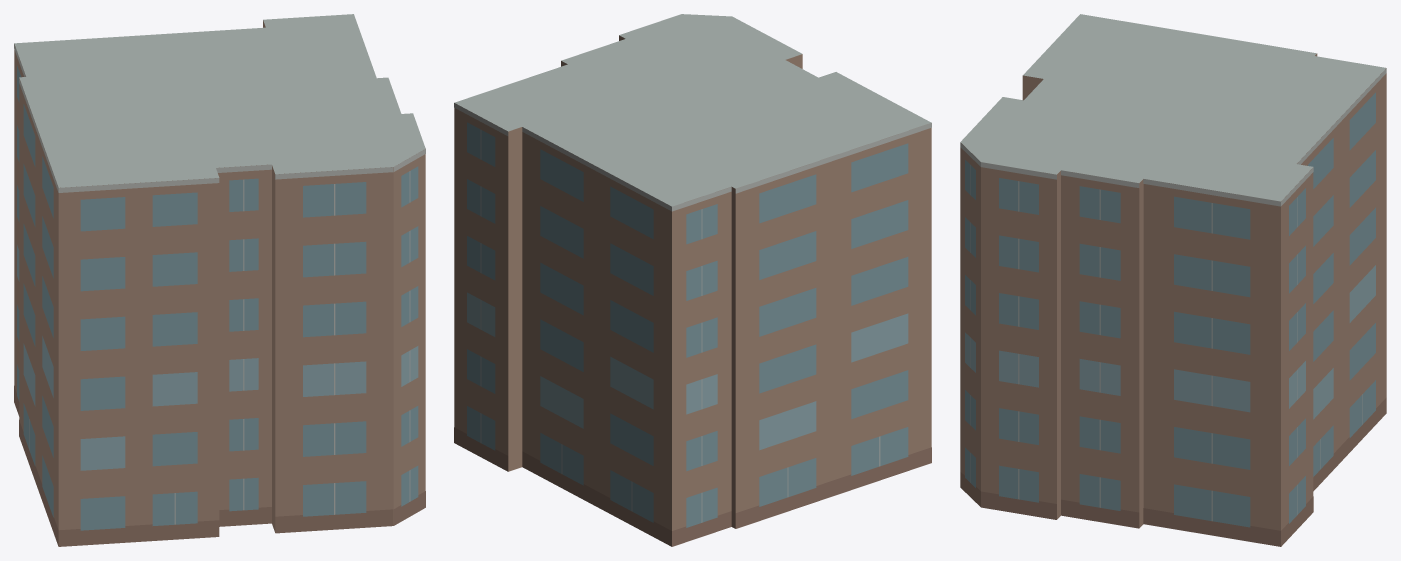
Rendered from survey-upis-32656479.glb.
The picture shows the model from 3 angles, left to right: view 1: azimuth 30°, elevation 25°; view 2: azimuth 150°, elevation 25°; view 3: azimuth 270°, elevation 25°; orthographic projection. The views are drawn at different scales.
Visible parts, largest first — view 1: survey-upis-32656479.tmp; view 2: survey-upis-32656479.tmp; view 3: survey-upis-32656479.tmp.
Boxes of the visible parts, x1=… form: survey-upis-32656479.tmp: x1=14, y1=14, x2=425, y2=546; survey-upis-32656479.tmp: x1=454, y1=14, x2=931, y2=546; survey-upis-32656479.tmp: x1=960, y1=14, x2=1386, y2=546.
Size of the model in its own units: 19.58 by 16.8 by 18.8.
